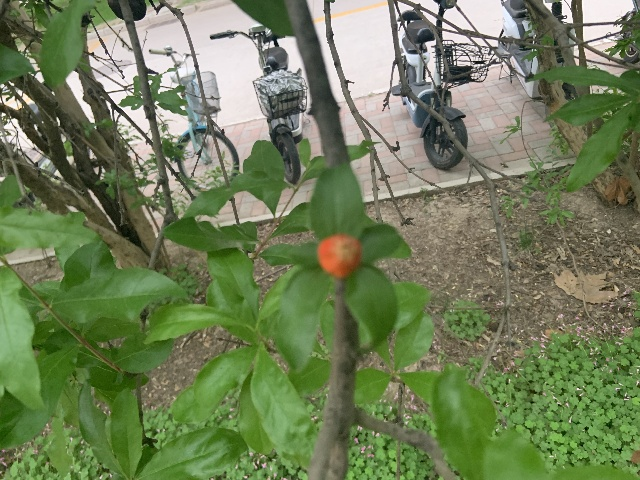bud: (316, 233, 362, 277)
